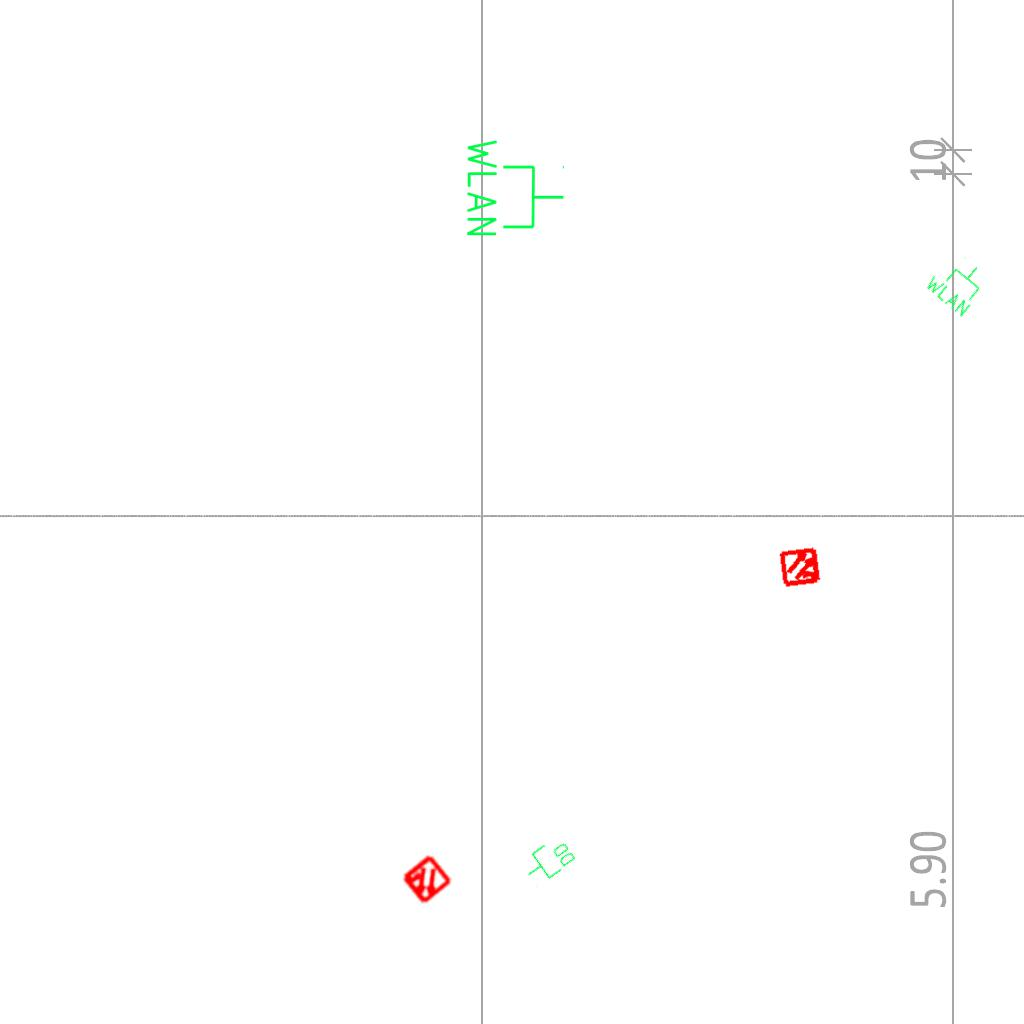Datenanschluss_zweifach: (517, 832, 580, 890)
OT_Multisensormelder_(Kombination_RMO_WMD): (386, 840, 466, 920), (769, 535, 833, 599)
WLAN: (463, 135, 567, 240), (921, 246, 995, 320)
